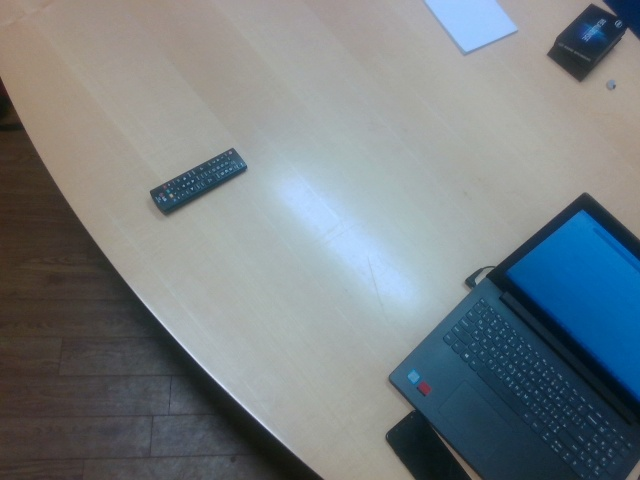remote: (151, 148, 250, 217)
